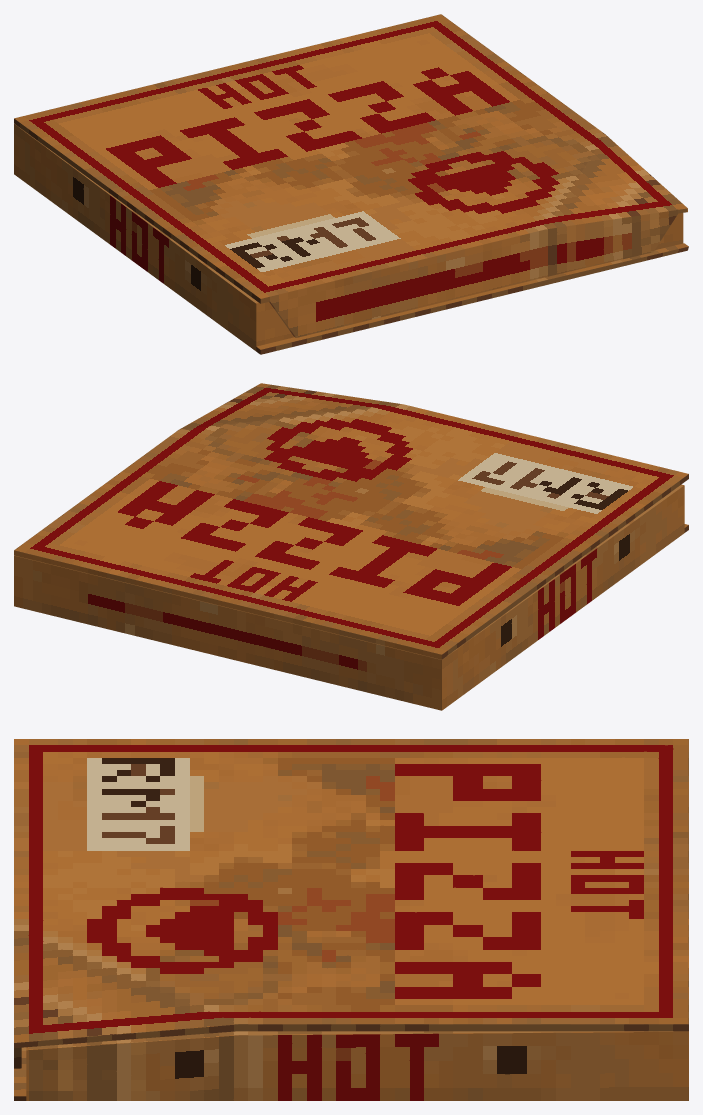
Rendered from SM_Motel_PizzaBox.glb.
3 renders of one model, top to bottom at view 1: azimuth 30°, elevation 25°; view 2: azimuth 150°, elevation 25°; view 3: azimuth 270°, elevation 25°, orthographic. The views are drawn at different scales.
Parts seen in each view (by area): view 1: SM_Motel_PizzaBox_Lid, SM_Motel_PizzaBox; view 2: SM_Motel_PizzaBox_Lid, SM_Motel_PizzaBox; view 3: SM_Motel_PizzaBox_Lid, SM_Motel_PizzaBox.
Boxes of the visible parts, bbox=[...] form: SM_Motel_PizzaBox_Lid: bbox=[14, 14, 687, 337]; SM_Motel_PizzaBox: bbox=[14, 123, 688, 354]; SM_Motel_PizzaBox_Lid: bbox=[14, 383, 688, 659]; SM_Motel_PizzaBox: bbox=[14, 484, 688, 710]; SM_Motel_PizzaBox_Lid: bbox=[14, 739, 688, 1068]; SM_Motel_PizzaBox: bbox=[14, 1031, 688, 1100].
Size of what is drawn, in the model's own units: 0.3609 by 0.045 by 0.36.
Materials: 1 (1 with a texture image).
